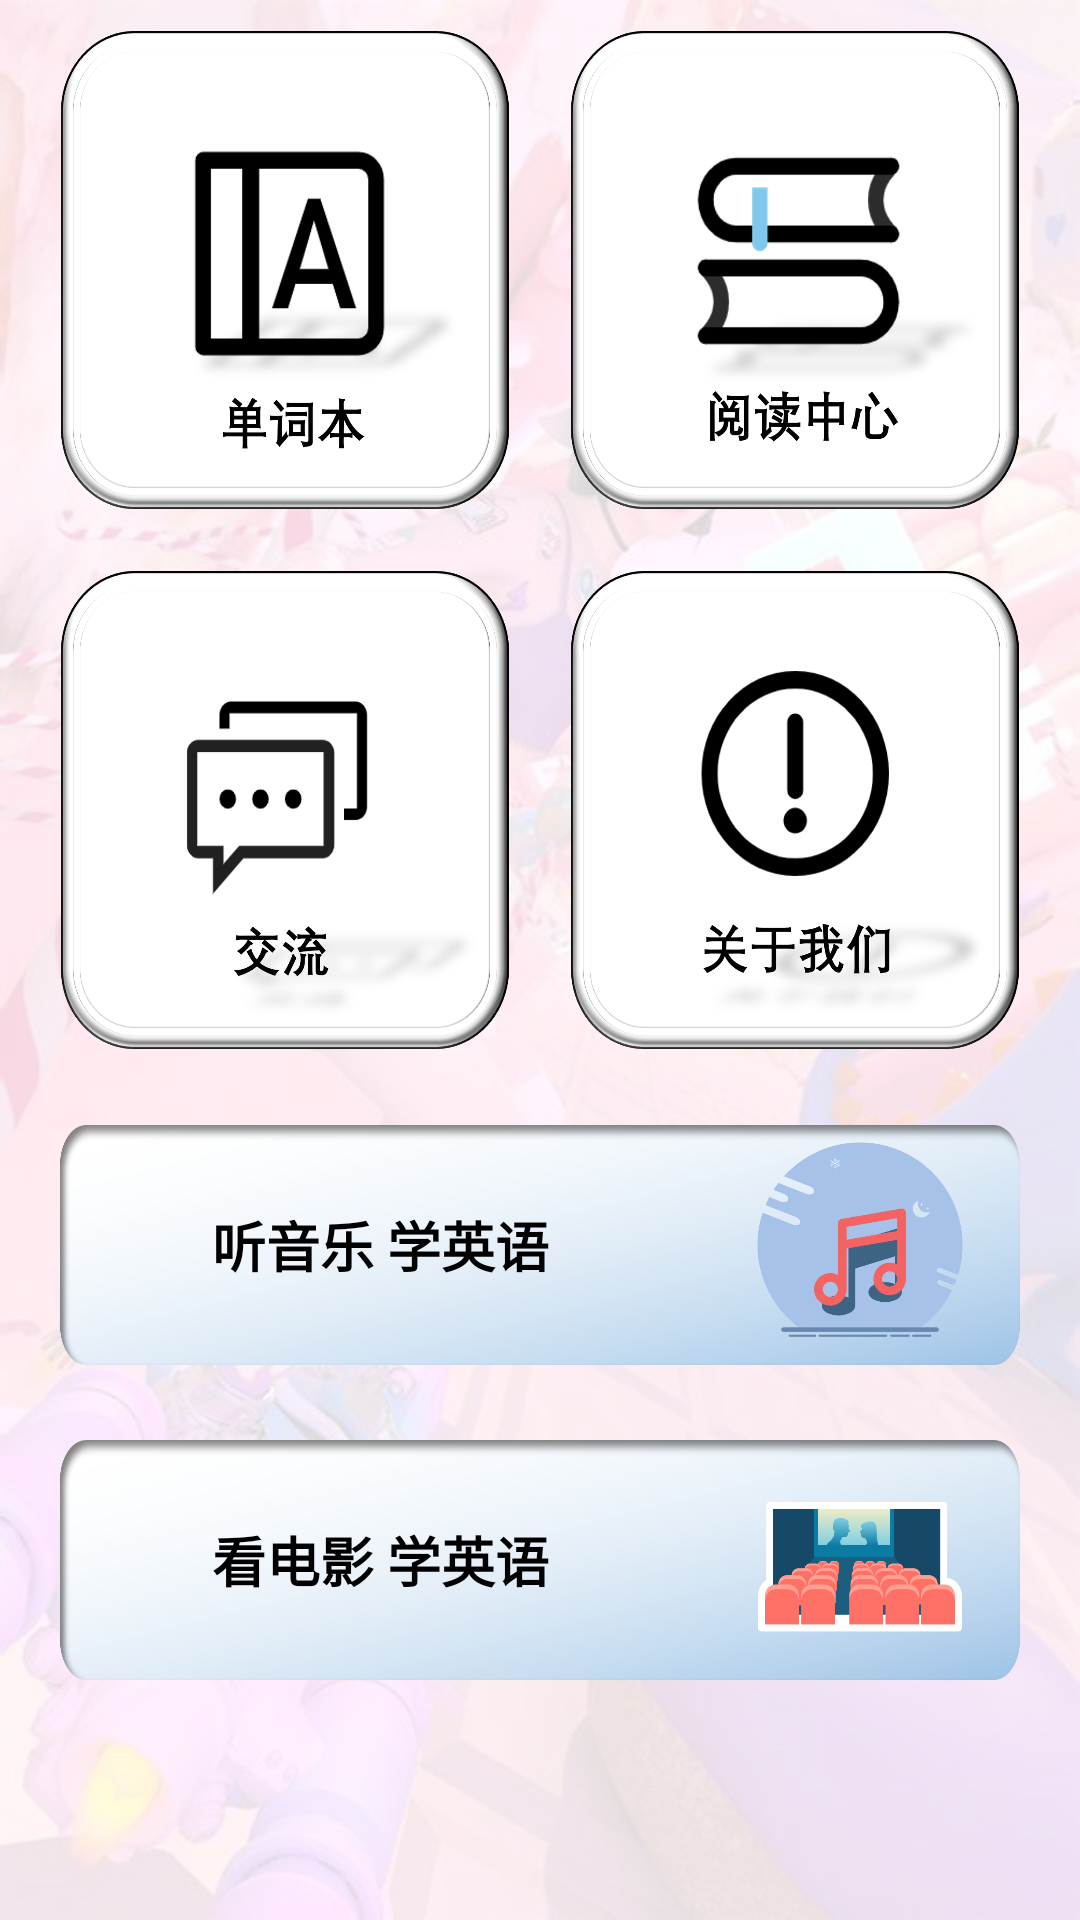

Point at icon controls on the screen. Image size 1080x1920, points as [x,y].
cinemaicon: [860,1560]
musicicon: [860,1245]
